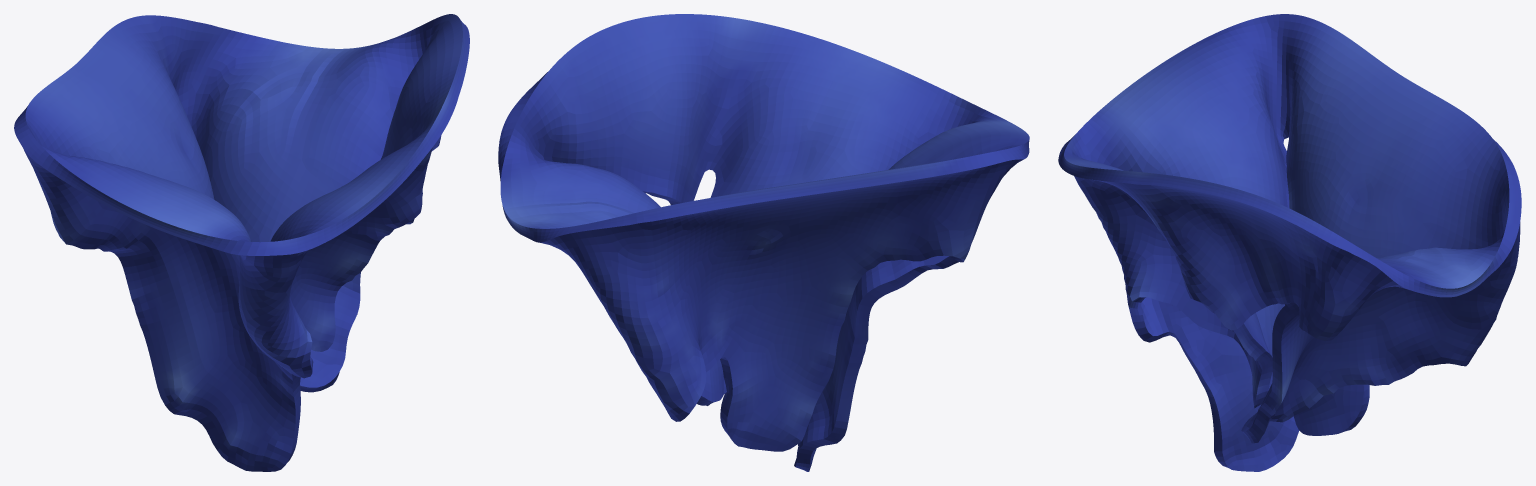
3 renders of one model, left to right at view 1: azimuth 30°, elevation 25°; view 2: azimuth 150°, elevation 25°; view 3: azimuth 270°, elevation 25°, orthographic. The views are drawn at different scales.
Parts seen in each view (by area): view 1: OCS14_maxS_4; view 2: OCS14_maxS_4; view 3: OCS14_maxS_4.
Part boxes in pixels (x1=…): OCS14_maxS_4: x1=14, y1=14, x2=469, y2=471; OCS14_maxS_4: x1=498, y1=14, x2=1029, y2=471; OCS14_maxS_4: x1=1058, y1=14, x2=1521, y2=471.
Bounding box in the file's own units: 1.44 × 1.17 × 1.32.
